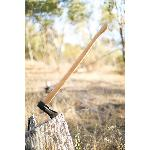Kapak: (35, 21, 113, 123)
